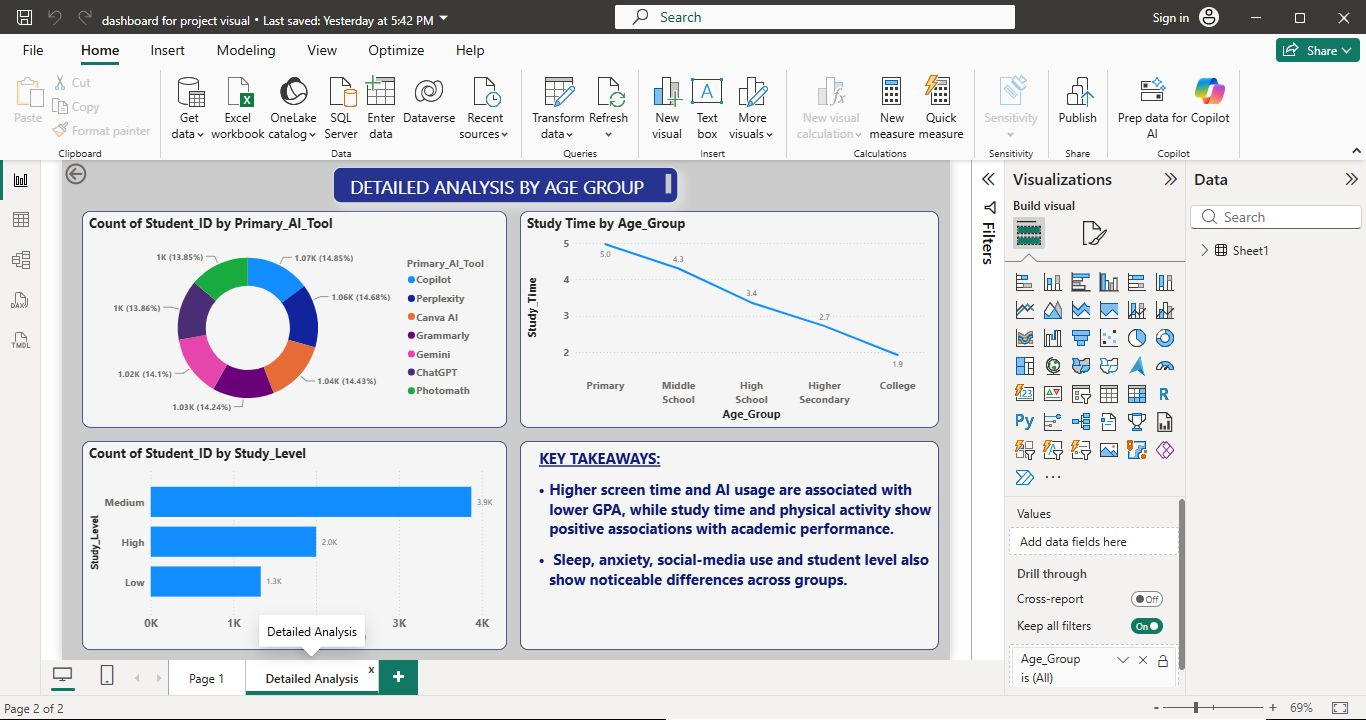

The page's visual inventory and layout, read from the dashboard file:
{"tool":"powerbi","page":{"name":"Detailed Analysis","canvas":[1280,720],"ordinal":1},"visuals":[{"type":"donutChart","fields":{"Category":["Sheet1.Primary_AI_Tool"],"Y":["CountNonNull(Sheet1.Student_ID)"]},"box":[29,73.9,611.6,311.6],"z":0},{"type":"lineChart","title":"Study Time by Age_Group","fields":{"Category":["Sheet1.Age_Group"],"Y":["Sheet1.Avg Study Time"]},"box":[659.4,73.9,602.9,311.6],"z":1000},{"type":"barChart","fields":{"Category":["Sheet1.Study_Level"],"Y":["CountNonNull(Sheet1.Student_ID)"]},"box":[29,404.3,611.6,301.4],"z":2000},{"type":"textbox","box":[389.7,10.1,497.2,52.1],"z":3000},{"type":"textbox","box":[659.4,404.3,602.9,301.4],"z":4000},{"type":"actionButton","box":[0,0,100,40],"z":5000}]}

Visuals, with their boxes on the page's 1280x720 design canvas (x1, y1, x2, y2). These are canvas units, not pixel positions in the 1366x720 screenshot, which may show the page scaled, cropped or inside an application window:
donutChart - Sheet1.Primary_AI_Tool x CountNonNull(Sheet1.Student_ID): pyautogui.locateOnScreen(29, 74, 641, 386)
"Study Time by Age_Group" lineChart: pyautogui.locateOnScreen(659, 74, 1262, 386)
barChart - Sheet1.Study_Level x CountNonNull(Sheet1.Student_ID): pyautogui.locateOnScreen(29, 404, 641, 706)
textbox: pyautogui.locateOnScreen(390, 10, 887, 62)
textbox: pyautogui.locateOnScreen(659, 404, 1262, 706)
actionButton: pyautogui.locateOnScreen(0, 0, 100, 40)
